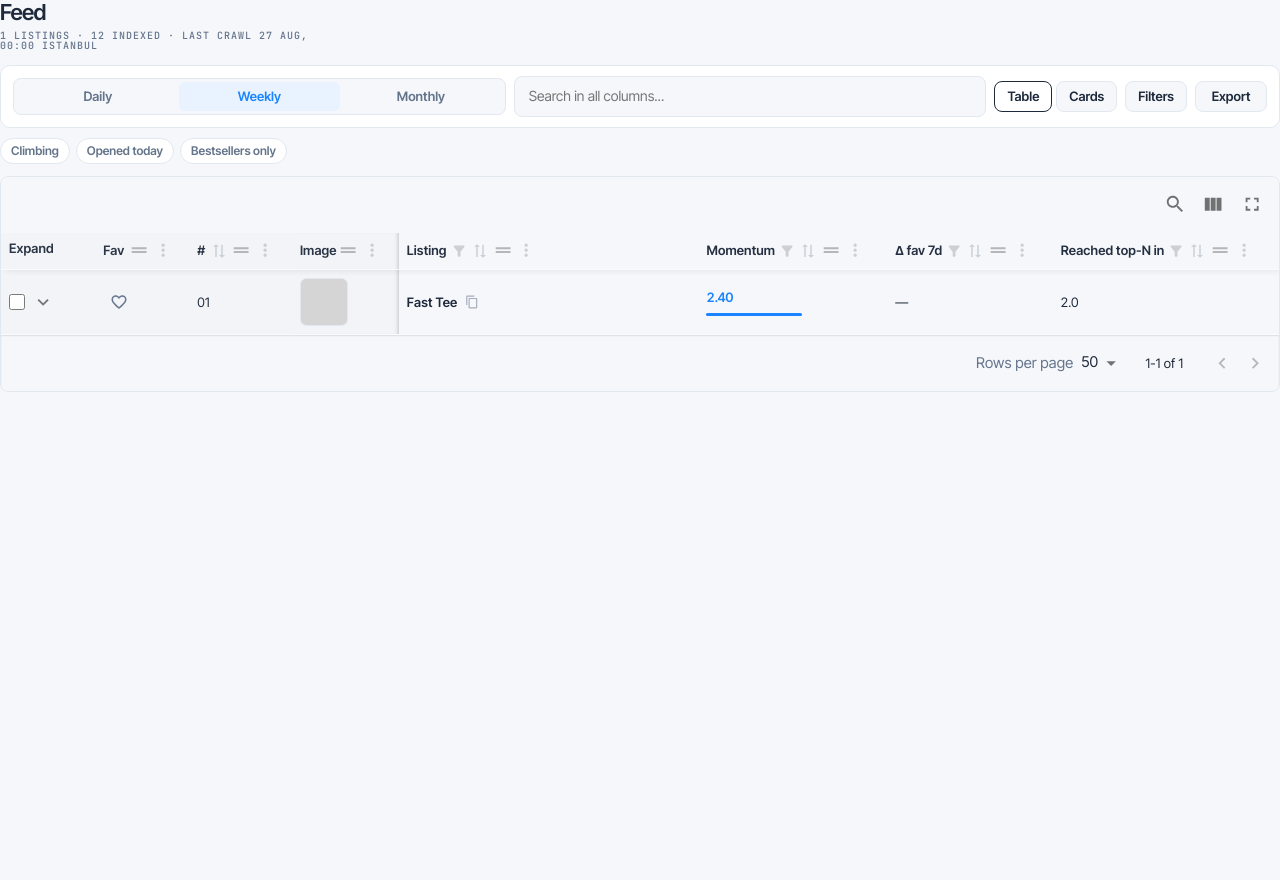
Test: FeedPage › expands a listing row to show the detail panel
Check: the link "Fast Tee" is shown, box 407,294 -> 457,310
Click the button named "Expand" at (43, 302), box 29,288 -> 57,316
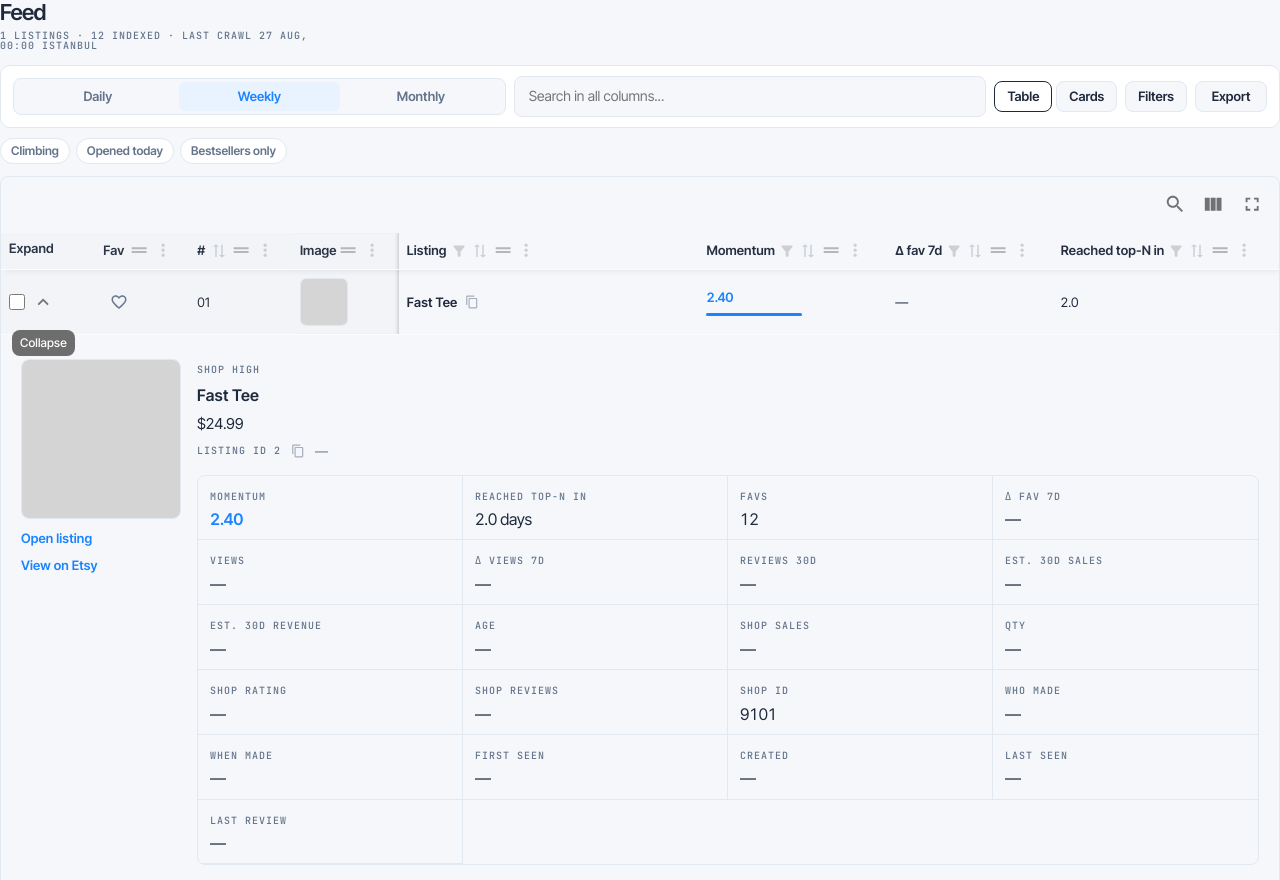
Check: the link "View on Etsy" is shown, box 21,557 -> 98,573
